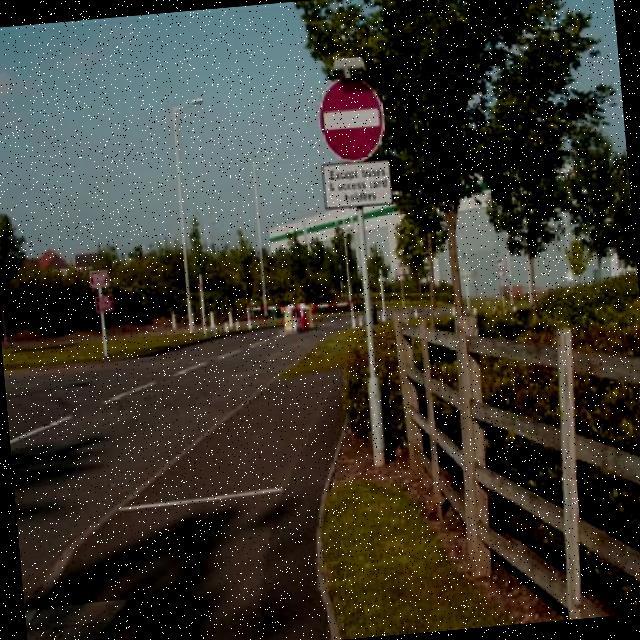Zakaz wjazdu: (315, 68, 392, 165)
